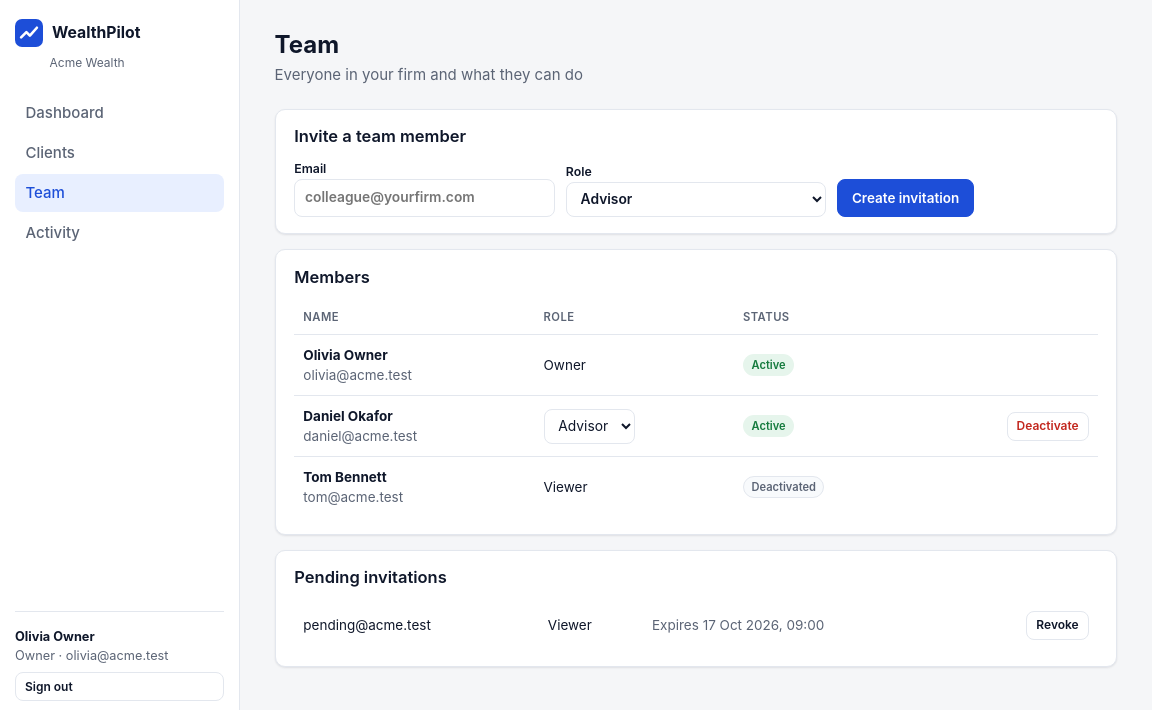
Test: team › invites a member and shows the one-time link
Click the button "Create invitation" at {"x": 906, "y": 198}, box top-left (837, 179), bottom-right (974, 217)
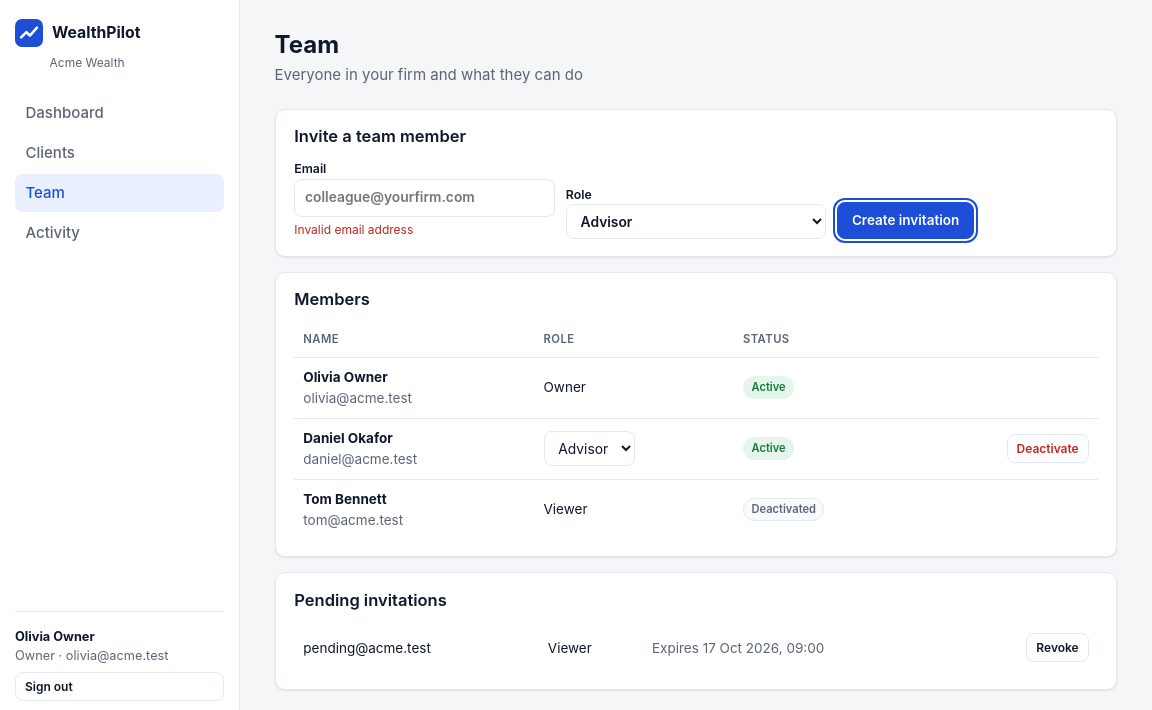
Now the text "Invalid email address" is shown, box top-left (294, 222), bottom-right (413, 237)
Type "new@acme.test" into the field labelled "Email" at {"x": 424, "y": 198}, box top-left (294, 179), bottom-right (555, 216)
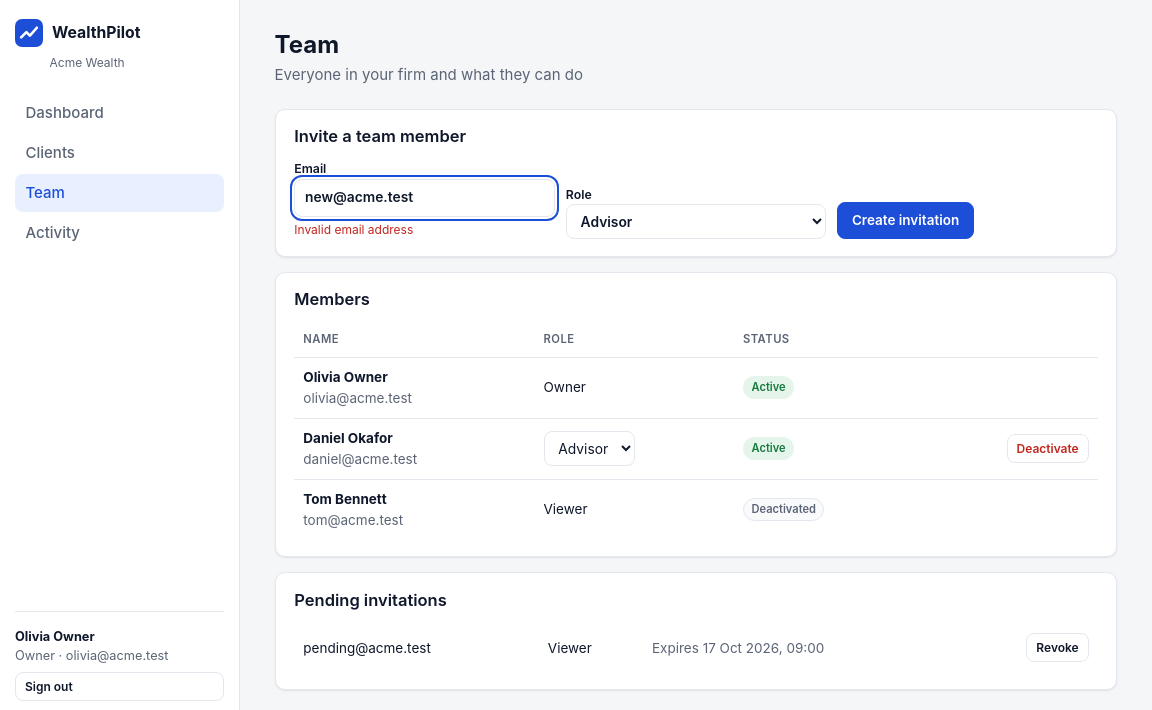
Click the button "Create invitation" at {"x": 906, "y": 220}, box top-left (837, 202), bottom-right (974, 239)
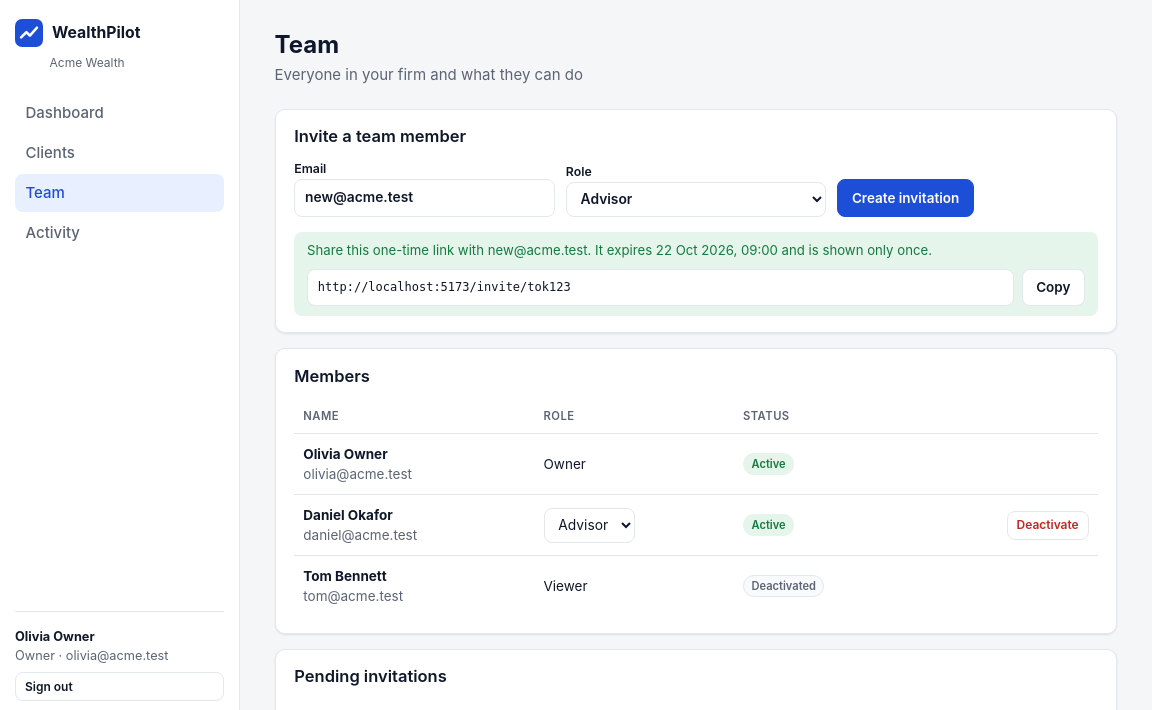
Now the field named "Invitation link" holds "http://localhost:5173/invite/tok123", box top-left (307, 268), bottom-right (1014, 306)
